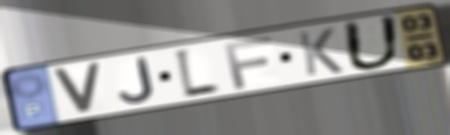F: (221, 34, 276, 91)
J: (117, 55, 159, 105)
K: (294, 26, 346, 78)
L: (171, 47, 223, 101)
U: (340, 13, 405, 72)
V: (48, 61, 105, 115)
